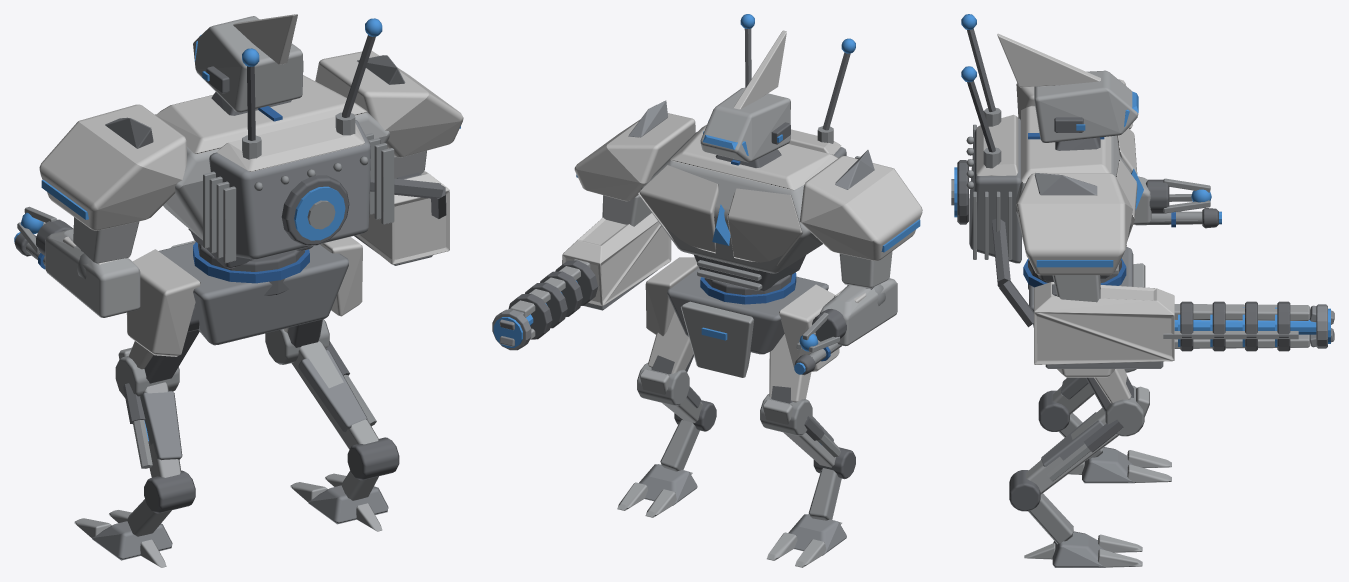
Rendered from lattice_commander.glb.
3 views of the same model, side by side, from view 1: azimuth 30°, elevation 25°; view 2: azimuth 150°, elevation 25°; view 3: azimuth 270°, elevation 25° (orthographic). The views are drawn at different scales.
Visible parts, largest first — view 1: Turret, Body; view 2: Turret, Body; view 3: Turret, Body.
Boxes of the visible parts, <box> form: Turret: <box>14,14,463,317</box>; Body: <box>74,236,399,567</box>; Turret: <box>492,14,922,375</box>; Body: <box>617,257,855,567</box>; Turret: <box>951,14,1334,368</box>; Body: <box>1009,245,1171,567</box>.
Size of the model in its own units: 1.28 by 1.8 by 1.3.
